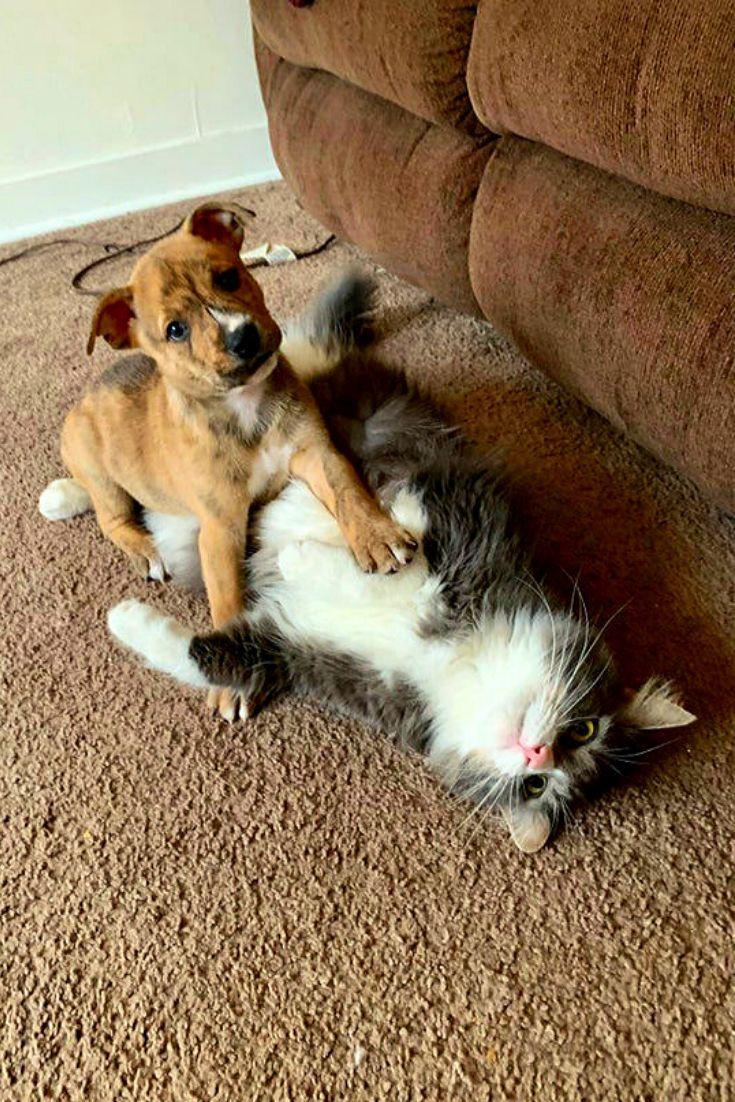kedo: (104, 480, 698, 854)
